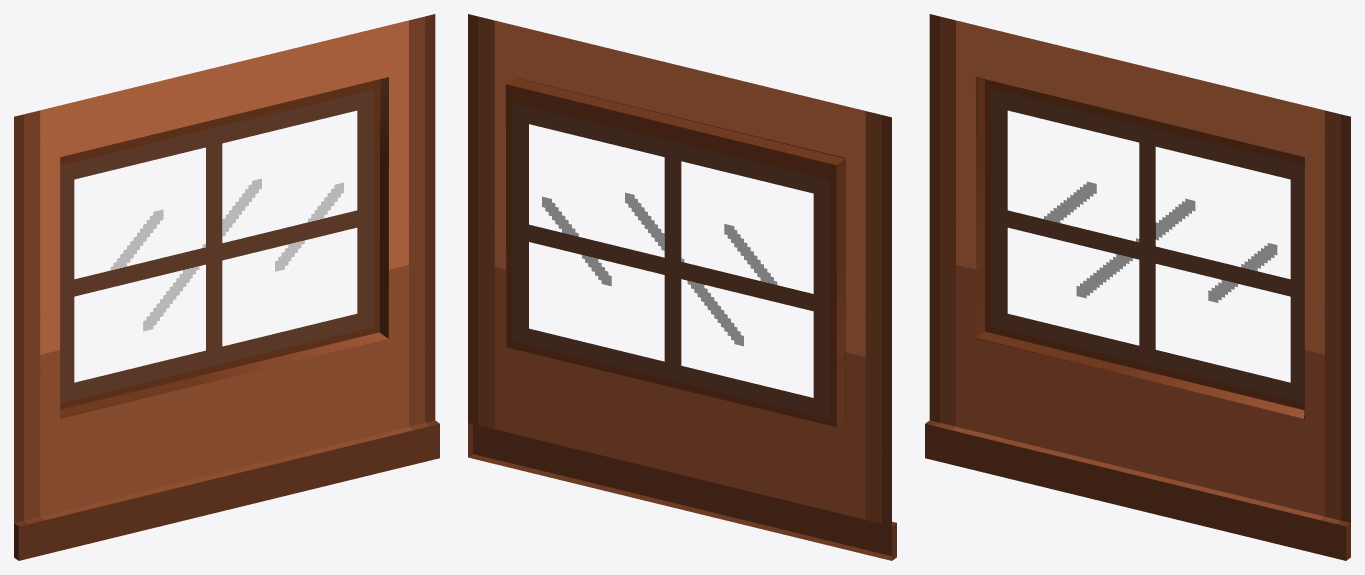
File: wall-window.fbx
3 renders of one model, left to right at view 1: azimuth 30°, elevation 25°; view 2: azimuth 150°, elevation 25°; view 3: azimuth 330°, elevation 25°, orthographic.
Parts seen in each view (by area): view 1: Plane; view 2: Plane; view 3: Plane.
Boxes of the visible parts, bbox=[...] form: Plane: bbox=[14, 14, 439, 560]; Plane: bbox=[468, 14, 896, 560]; Plane: bbox=[925, 14, 1350, 560].
Size of the model in its own units: 768 by 768 by 42.86.
Materials: 1 (1 with a texture image).
